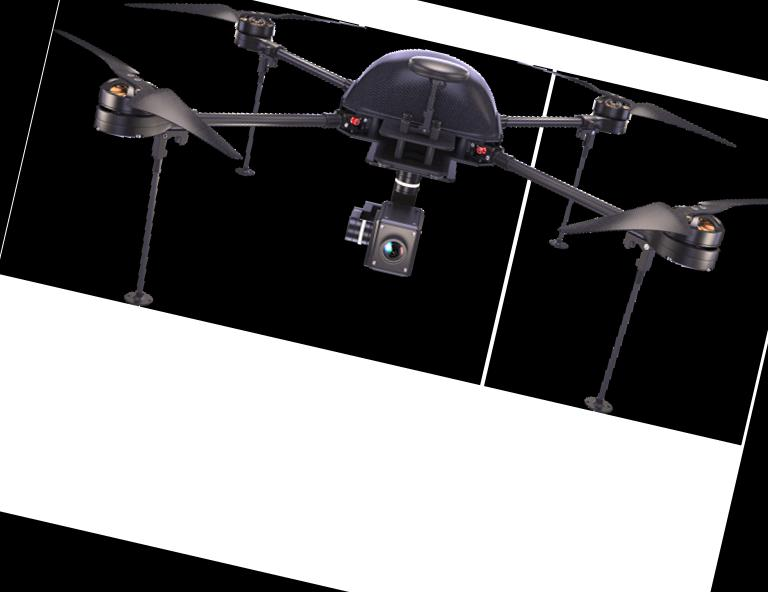drone: (17, 0, 768, 380)
